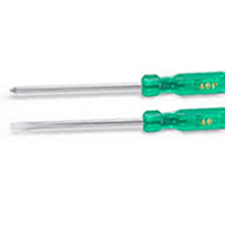screwdriver: (8, 106, 225, 137)
